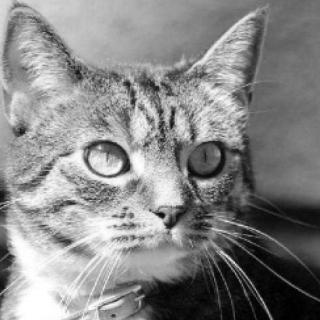cat: (1, 8, 276, 292)
nose: (140, 176, 198, 234)
